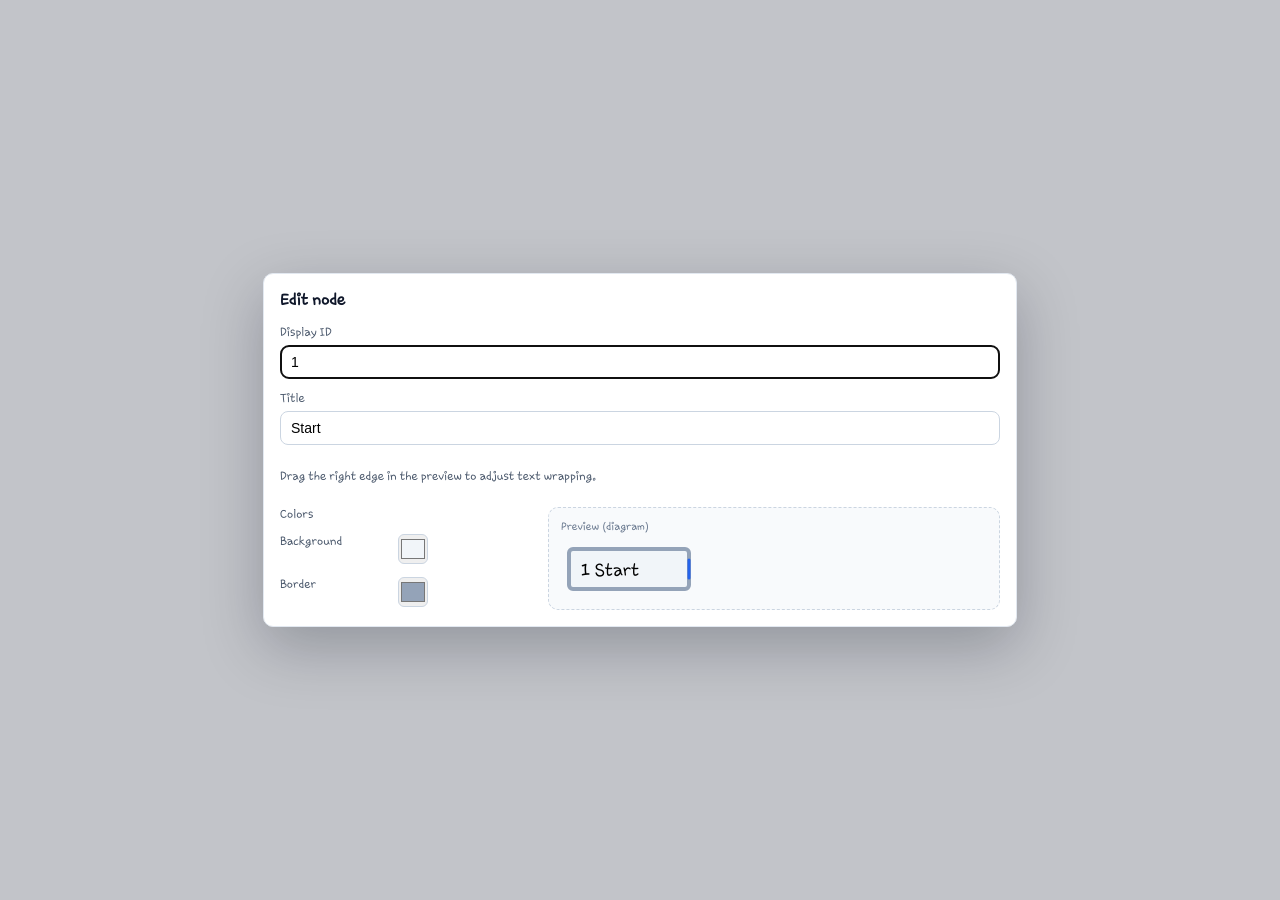
it: NodeEditDialog › rejects display IDs with leading zeros before updating the canvas state
Step 1. Replace the text in the field labelled "Display ID" with "01" → (640, 362), box [280,345,1000,379]
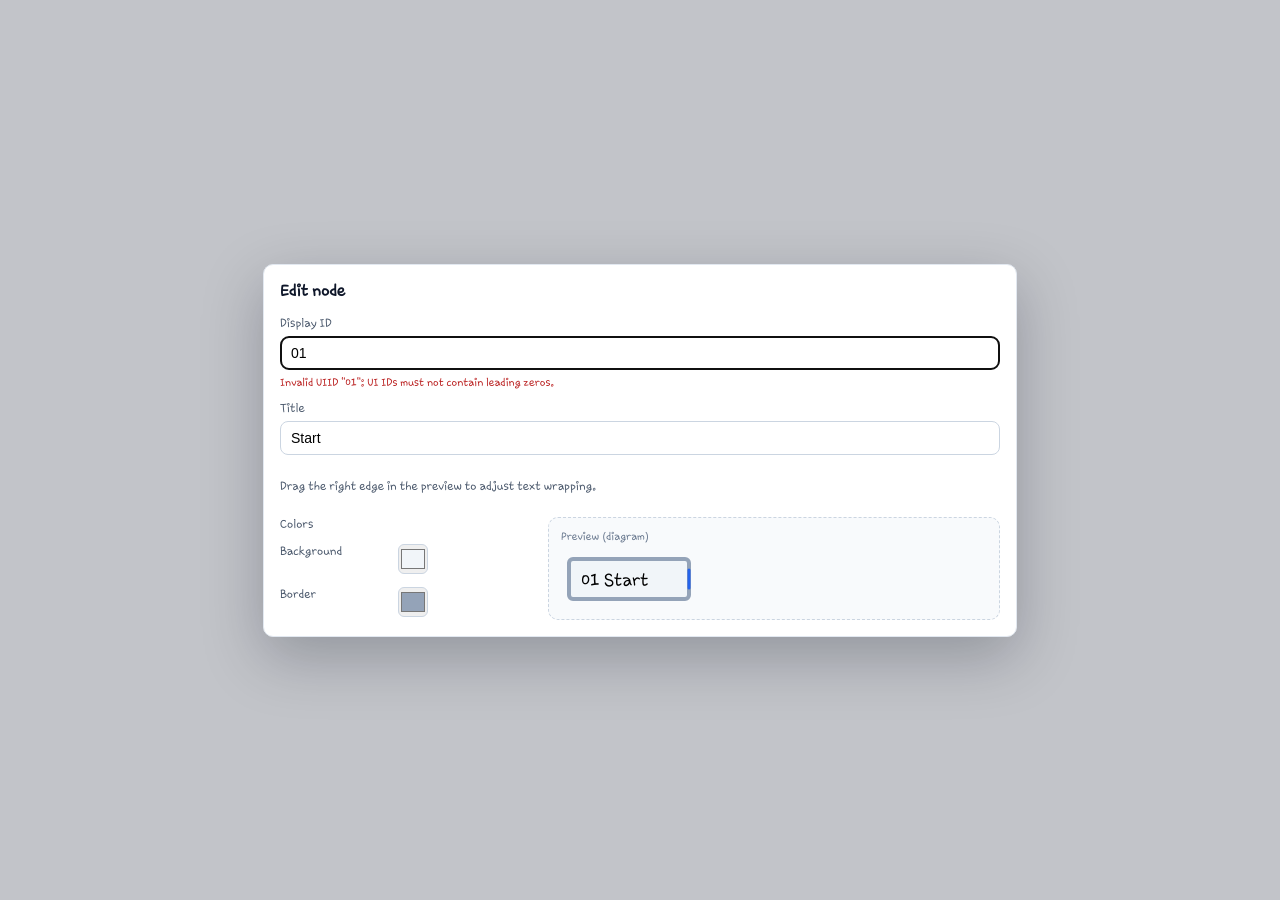
Expected: the text "Invalid UIID \"01\": UI IDs must not contain leading zeros." is shown, [280,376,554,388]
Step 2. Leave the field labelled "Display ID", box [280,336,1000,370]
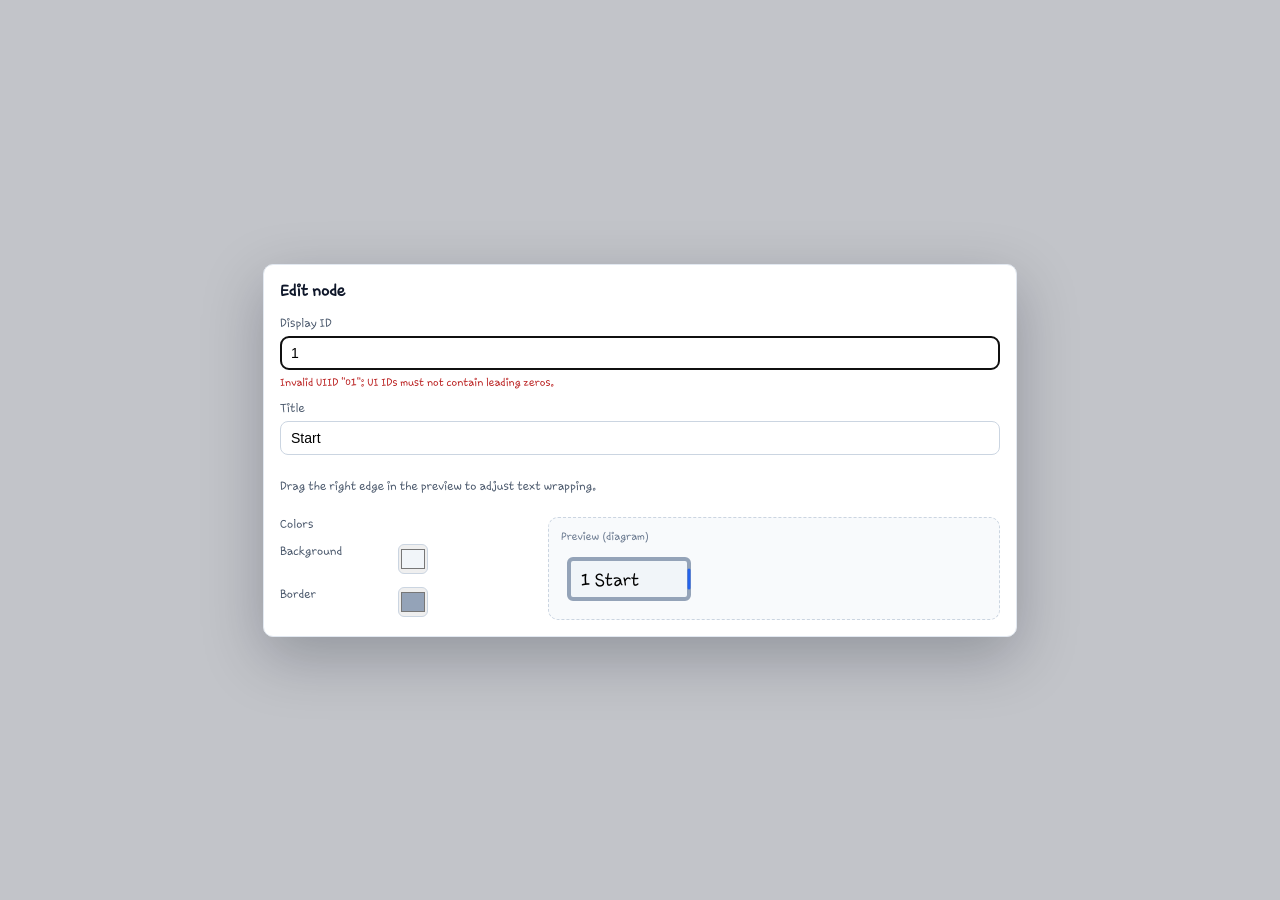
Expected: the field labelled "Display ID" holds "1", [280,336,1000,370]
